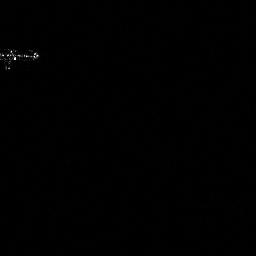ship: (1, 47, 41, 71)
